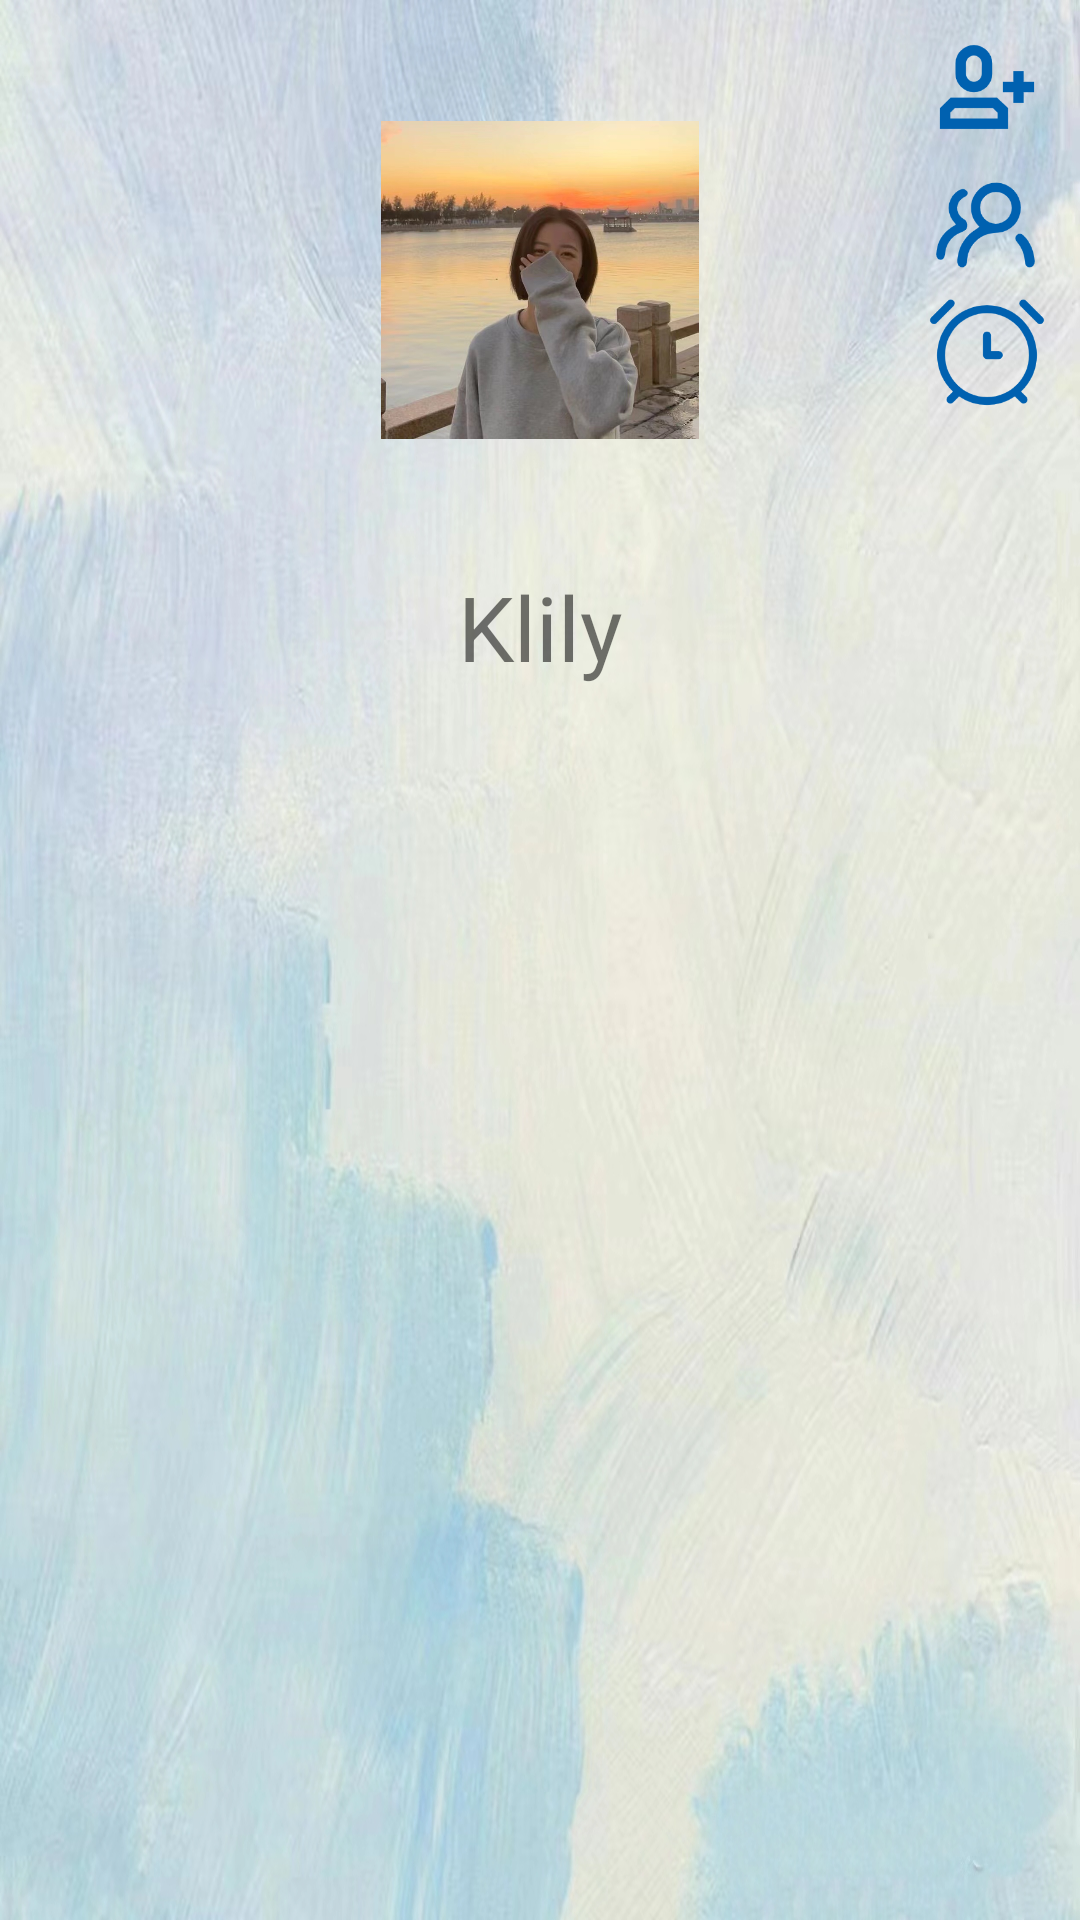

Where to tap for icons on this 1080*1920 app screen, as point (x, y):
add friend: point (995, 72)
alarm: point (984, 342)
friend: point (980, 240)
